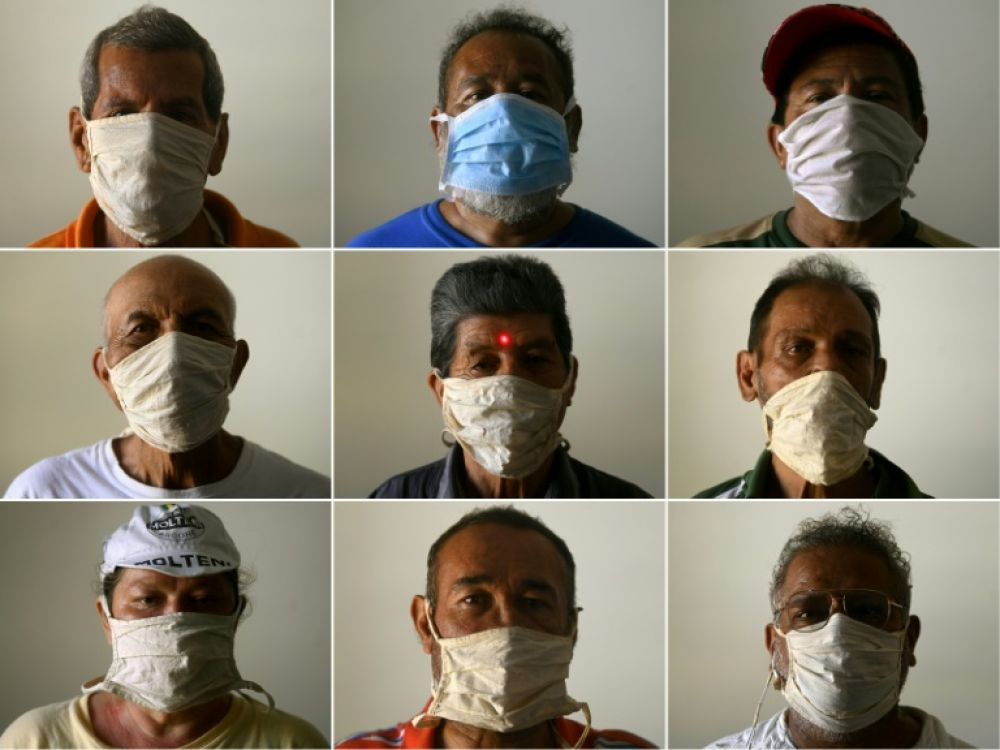with_mask: (91, 542, 266, 721), (74, 41, 240, 227), (436, 280, 584, 480), (417, 533, 572, 718), (772, 540, 917, 724), (107, 280, 252, 451), (780, 60, 932, 222), (760, 282, 880, 483), (444, 51, 561, 218)
